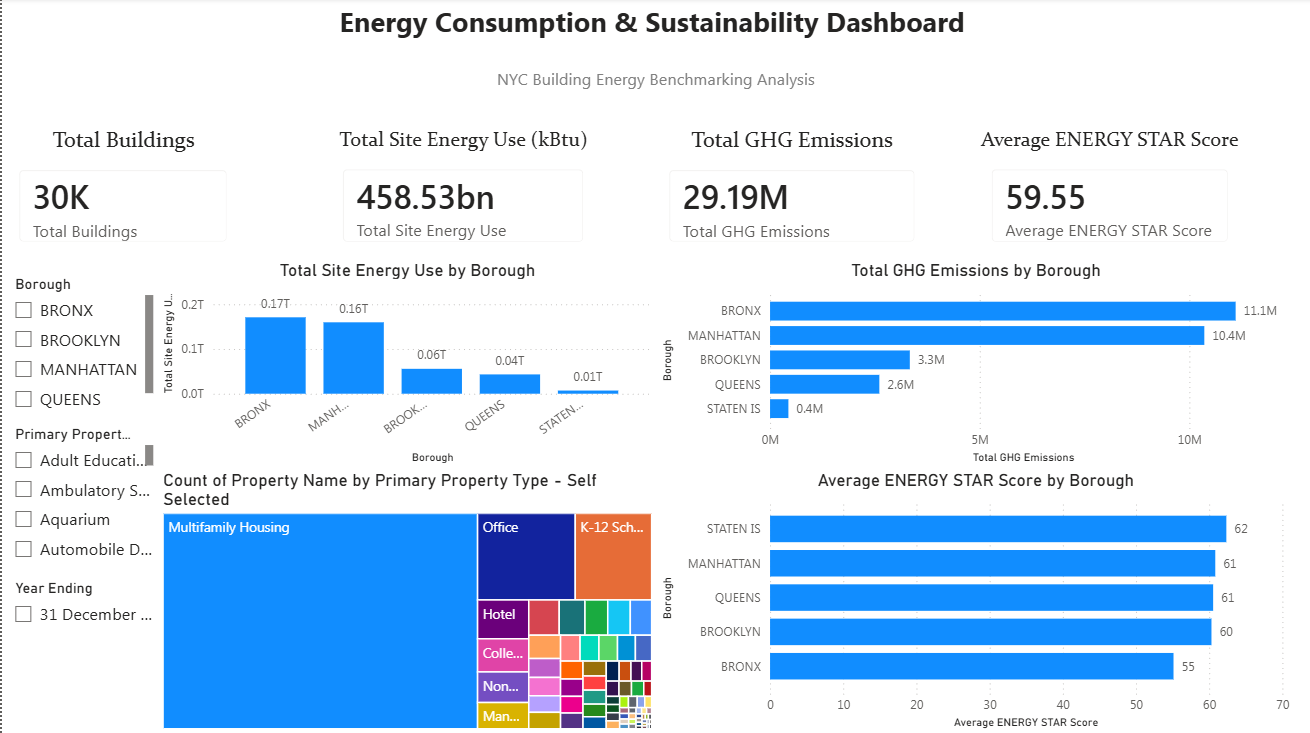

The dashboard page shown, as its layout file describes it:
{"tool":"powerbi","page":{"name":"Executive Overview","canvas":[1280,720],"ordinal":0},"visuals":[{"type":"textbox","box":[10.6,0,1250,62.1],"z":0},{"type":"textbox","box":[15.2,62.1,1250,43.9],"z":1000},{"type":"cardVisual","title":"Total Buildings","fields":{"Data":["final_cleaned_energy_data.Total Buildings"]},"box":[0,125.8,237.9,130.3],"z":2000},{"type":"cardVisual","title":"Total Site Energy Use (kBtu)","fields":{"Data":["final_cleaned_energy_data.Total Site Energy Use"]},"box":[316.7,125.8,269.7,130.3],"z":3000},{"type":"cardVisual","title":"Total GHG Emissions","fields":{"Data":["final_cleaned_energy_data.Total GHG Emissions"]},"box":[636.4,125.8,274.2,130.3],"z":4000},{"type":"cardVisual","title":"Average ENERGY STAR Score","fields":{"Data":["final_cleaned_energy_data.Average ENERGY STAR Score"]},"box":[951.5,125.8,265.2,130.3],"z":5000},{"type":"slicer","fields":{"Values":["final_cleaned_energy_data.Borough"]},"box":[0,266.7,153,147],"z":6000},{"type":"slicer","fields":{"Values":["final_cleaned_energy_data.Primary Property Type - Self Selected"]},"box":[0,413.6,153,150],"z":7000},{"type":"slicer","fields":{"Values":["final_cleaned_energy_data.Year Ending"]},"box":[0,563.6,153,156.1],"z":8000},{"type":"clusteredColumnChart","title":"Total Site Energy Use by Borough","fields":{"Y":["final_cleaned_energy_data.Total Site Energy Use"],"Category":["final_cleaned_energy_data.Borough"]},"box":[153,256.1,487.9,204.5],"z":9000},{"type":"clusteredBarChart","title":"Total GHG Emissions by Borough","fields":{"Category":["final_cleaned_energy_data.Borough"],"Y":["final_cleaned_energy_data.Total GHG Emissions"]},"box":[640.9,256.1,624.2,204.5],"z":10000},{"type":"clusteredBarChart","title":"Average ENERGY STAR Score by Borough","fields":{"Category":["final_cleaned_energy_data.Borough"],"Y":["final_cleaned_energy_data.Average ENERGY STAR Score"]},"box":[641,461,624,259],"z":11000},{"type":"treemap","fields":{"Group":["final_cleaned_energy_data.Primary Property Type - Self Selected"],"Values":["CountNonNull(final_cleaned_energy_data.Property Name)"]},"box":[153,460.6,487.9,259.1],"z":12000}]}

Visuals, with their boxes in screenshot pixels (x1, y1, x2, y2), scaled from the page's 1280x720 canvas onto the 1310x733 screenshot:
textbox: (left=11, top=0, right=1290, bottom=63)
textbox: (left=16, top=63, right=1295, bottom=108)
"Total Buildings" cardVisual: (left=0, top=128, right=243, bottom=261)
"Total Site Energy Use (kBtu)" cardVisual: (left=324, top=128, right=600, bottom=261)
"Total GHG Emissions" cardVisual: (left=651, top=128, right=932, bottom=261)
"Average ENERGY STAR Score" cardVisual: (left=974, top=128, right=1245, bottom=261)
slicer - final_cleaned_energy_data.Borough: (left=0, top=272, right=157, bottom=421)
slicer - final_cleaned_energy_data.Primary Property Type - Self Selected: (left=0, top=421, right=157, bottom=574)
slicer - final_cleaned_energy_data.Year Ending: (left=0, top=574, right=157, bottom=732)
"Total Site Energy Use by Borough" clusteredColumnChart: (left=157, top=261, right=656, bottom=469)
"Total GHG Emissions by Borough" clusteredBarChart: (left=656, top=261, right=1295, bottom=469)
"Average ENERGY STAR Score by Borough" clusteredBarChart: (left=656, top=469, right=1295, bottom=732)
treemap - final_cleaned_energy_data.Primary Property Type - Self Selected x CountNonNull(final_cleaned_energy_data.Property Name): (left=157, top=469, right=656, bottom=732)
